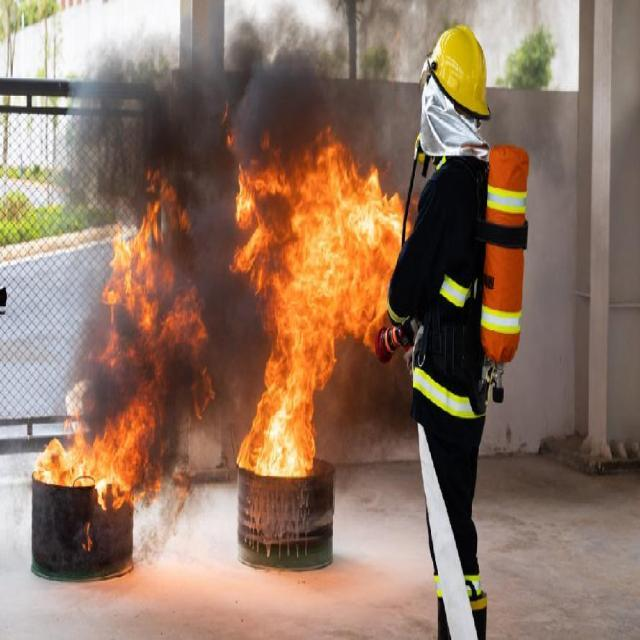Fire: (231, 130, 416, 480), (32, 170, 216, 508)
Smoke: (67, 29, 217, 167), (232, 15, 374, 130)
